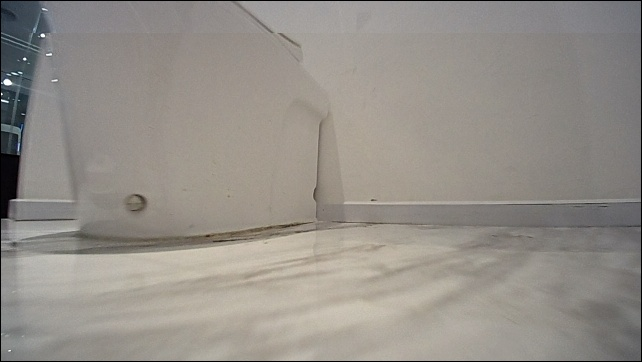toilet: (51, 3, 329, 238)
